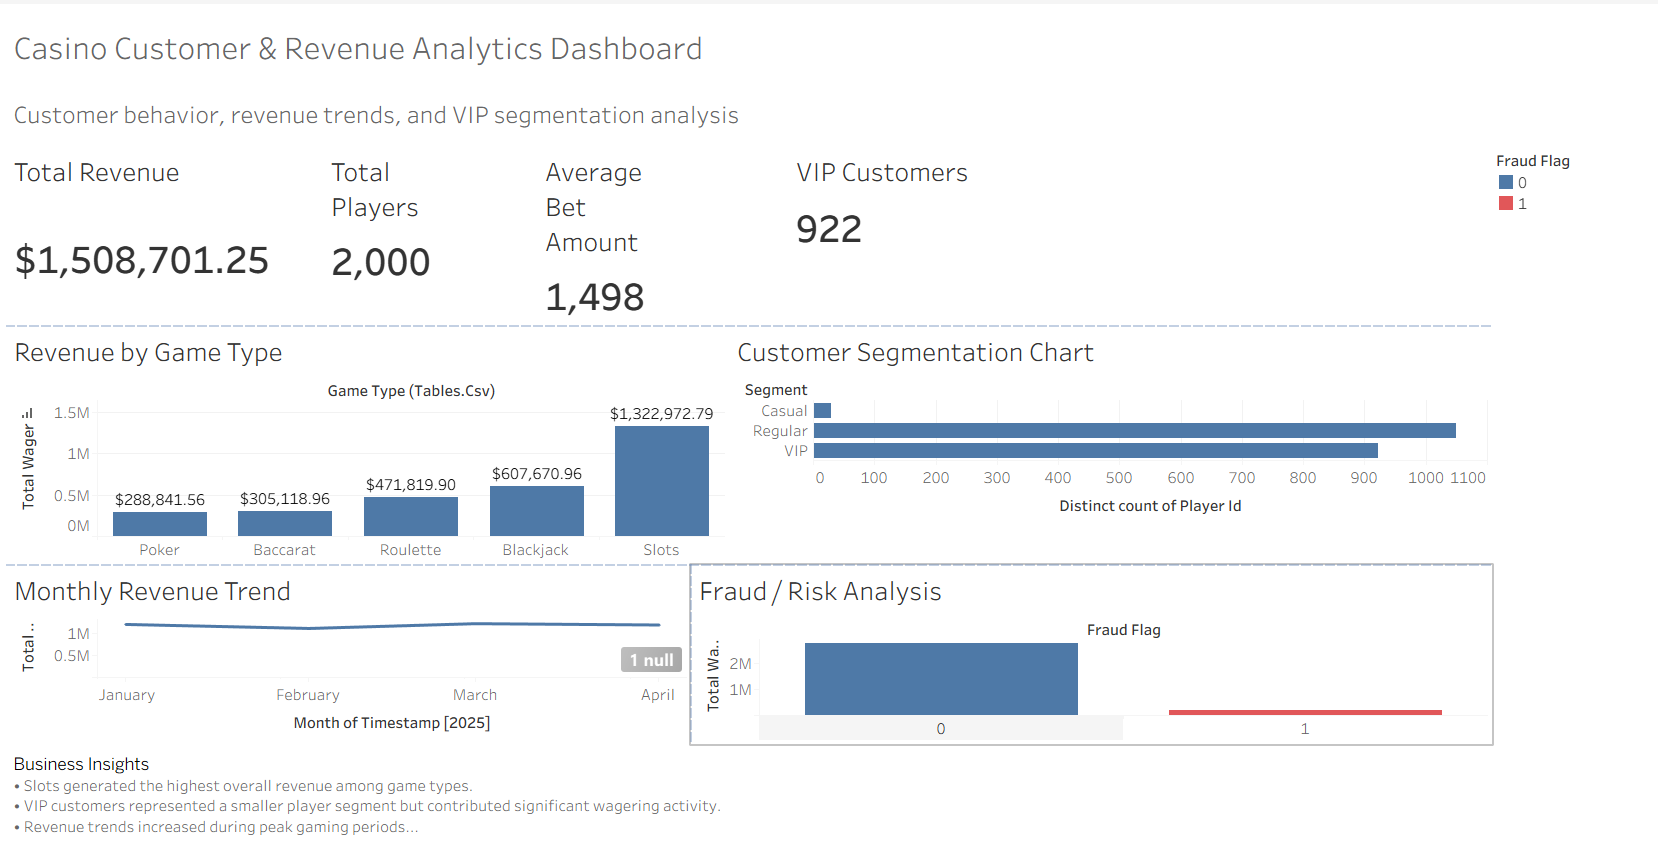

Layout of this report page (visuals, bound fields, positions):
{"tool":"tableau","page":{"name":"Dashboard 1","canvas":[1000,1000],"units":"permille","ordinal":0},"visuals":[{"type":"text","box":[4.8,9.4,990.4,82.6]},{"type":"text","box":[4.8,92,990.4,74.4]},{"type":"worksheet","title":"Total Revenue","mark":"Automatic","box":[4.8,166.4,190.7,212]},{"type":"worksheet","title":"Total Players","mark":"Text","box":[195.5,166.4,128.8,212]},{"type":"worksheet","title":"Average Bet Amount","mark":"Automatic","box":[324.3,166.4,151,212]},{"type":"worksheet","title":"VIP Customers","mark":"Text","box":[475.3,166.4,140.2,212]},{"type":"legend","title":"Fraud / Risk Analysis","param":"[federated.0ykg1oa1u0b9yp18ai1vk0gvjvoh].[none:fraud_flag:ok]","box":[898.9,166.4,96.3,84.6]},{"type":"worksheet","title":"Revenue by Game Type","mark":"Bar","rows":["total_wager"],"cols":["game_type (tables.csv)"],"box":[4.8,378.4,435,280.7]},{"type":"worksheet","title":"Customer Segmentation Chart","mark":"Automatic","rows":["Calculation_0120682048200704"],"cols":["player_id"],"box":[439.8,378.4,459.1,280.7]},{"type":"worksheet","title":"Monthly Revenue Trend","mark":"Line","rows":["total_wager"],"cols":["timestamp"],"box":[4.8,659,412.2,210.5]},{"type":"worksheet","title":"Fraud / Risk Analysis","mark":"Bar","rows":["total_wager"],"cols":["fraud_flag"],"box":[417,659,481.9,210.5]},{"type":"text","box":[4.8,869.6,990.4,121]}]}

Visuals, with their boxes on the dashboard's canvas, which has no fixed pixel size, in thousandths of its width and height (x1, y1, x2, y2). These are canvas units, not pixel positions in the 1658x852 screenshot, which may show the page scaled, cropped or inside an application window:
text: left=5, top=9, right=995, bottom=92
text: left=5, top=92, right=995, bottom=166
"Total Revenue" worksheet: left=5, top=166, right=196, bottom=378
"Total Players" worksheet (Text marks): left=196, top=166, right=324, bottom=378
"Average Bet Amount" worksheet: left=324, top=166, right=475, bottom=378
"VIP Customers" worksheet (Text marks): left=475, top=166, right=616, bottom=378
"Fraud / Risk Analysis" legend: left=899, top=166, right=995, bottom=251
"Revenue by Game Type" worksheet (Bar marks): left=5, top=378, right=440, bottom=659
"Customer Segmentation Chart" worksheet: left=440, top=378, right=899, bottom=659
"Monthly Revenue Trend" worksheet (Line marks): left=5, top=659, right=417, bottom=870
"Fraud / Risk Analysis" worksheet (Bar marks): left=417, top=659, right=899, bottom=870
text: left=5, top=870, right=995, bottom=991
